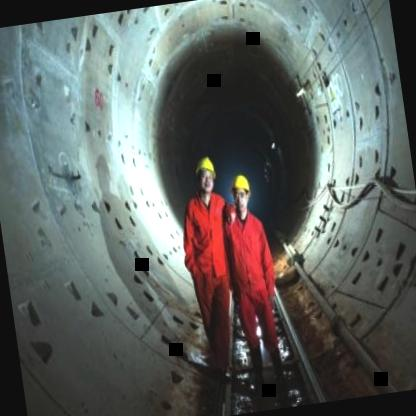helmet: (226, 172, 254, 216), (193, 156, 218, 198)
